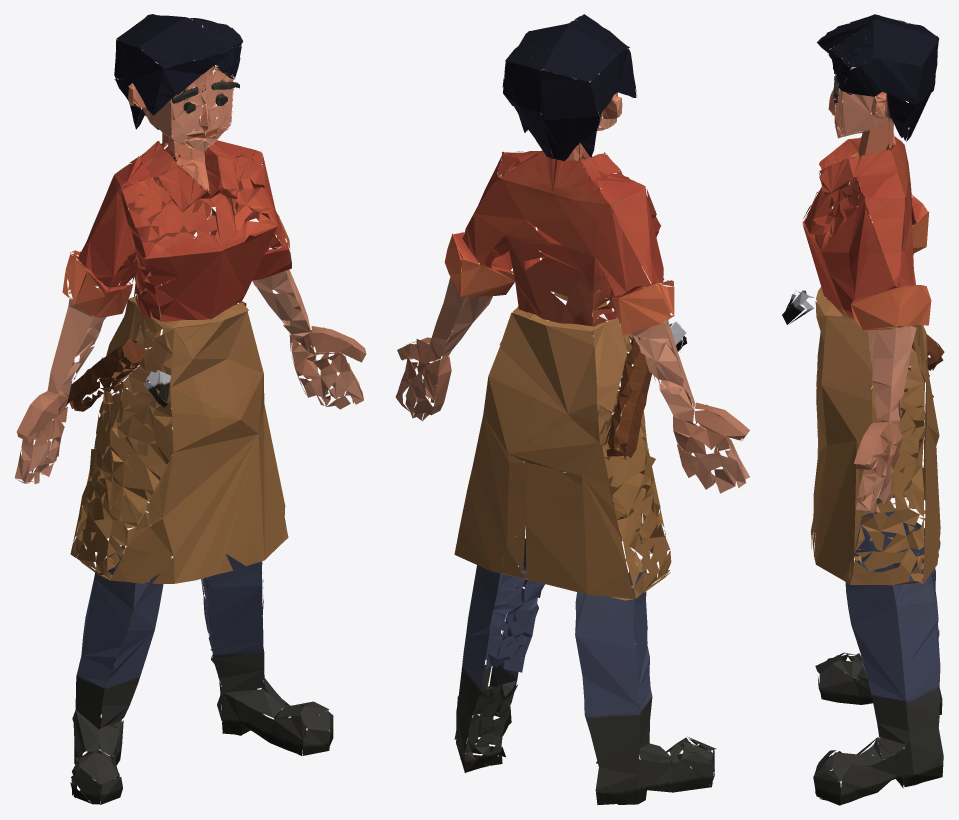
File: habitant.glb
3 renders of one model, left to right at view 1: azimuth 30°, elevation 25°; view 2: azimuth 150°, elevation 25°; view 3: azimuth 270°, elevation 25°, orthographic. The views are drawn at different scales.
Parts seen in each view (by area): view 1: world; view 2: world; view 3: world.
Part boxes in pixels (bbox=[...]): world: bbox=[15, 14, 366, 804]; world: bbox=[395, 14, 749, 805]; world: bbox=[782, 14, 944, 805].
Size of the model in its own units: 0.4942 by 0.9978 by 0.2061.
1 material, 1 textured.
